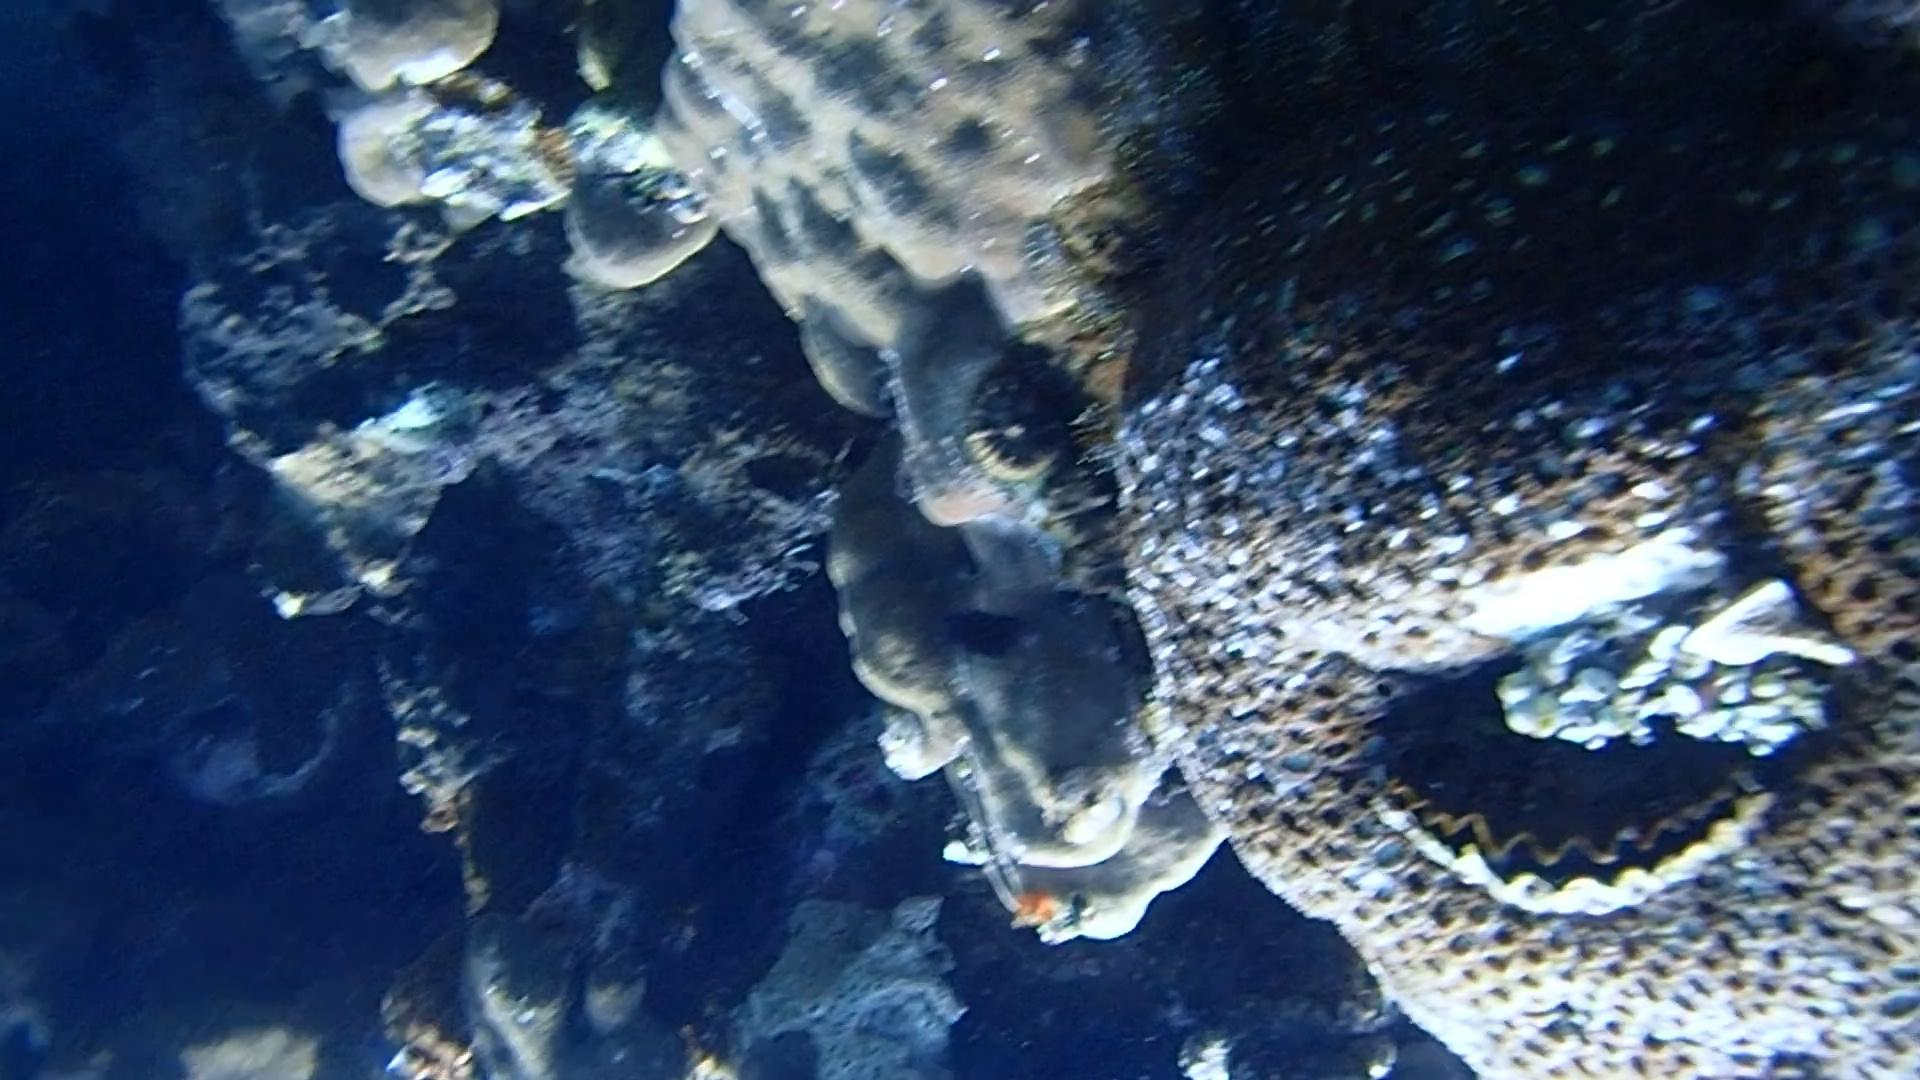Dark Fish: (725, 442, 851, 517), (940, 601, 1039, 674)
